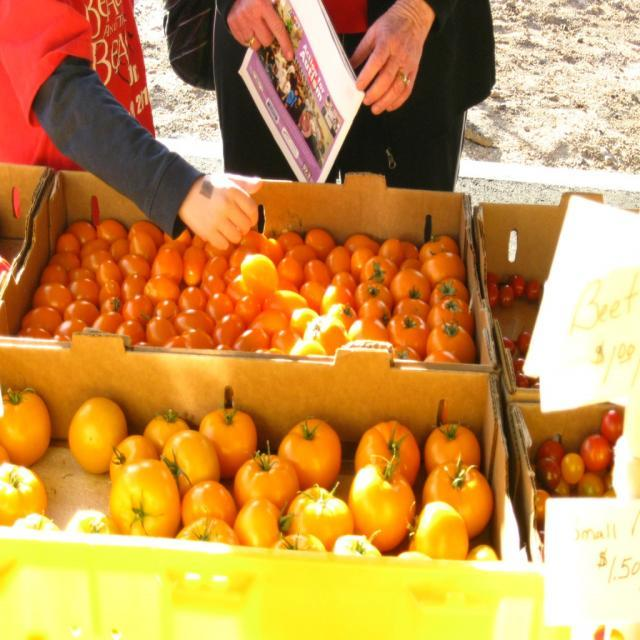Tomato: (61, 397, 496, 563), (13, 221, 483, 365), (534, 409, 624, 529), (0, 384, 50, 466), (0, 460, 46, 524), (12, 514, 61, 535), (514, 325, 530, 359), (497, 284, 515, 310), (512, 356, 526, 387), (526, 278, 539, 304), (504, 338, 517, 358), (489, 281, 497, 309), (510, 282, 525, 296), (0, 447, 9, 460)
